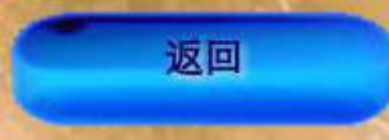Button: (1, 1, 388, 139)
